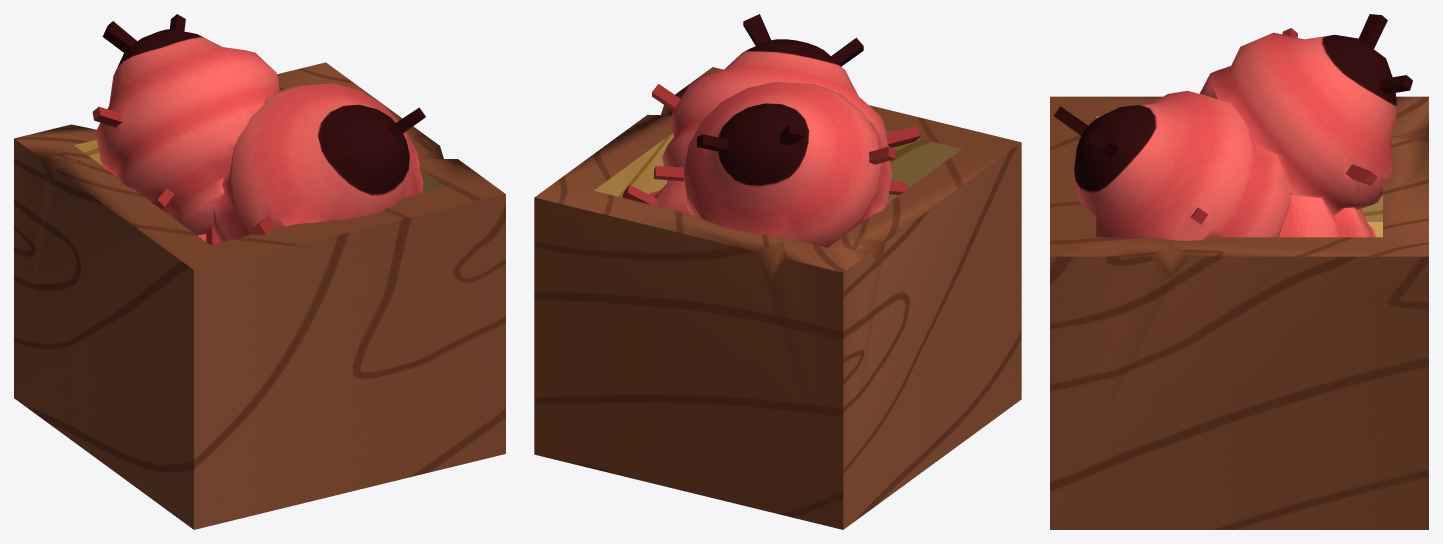
File: Box_RedBug.fbx
The picture shows the model from 3 angles, left to right: view 1: azimuth 30°, elevation 25°; view 2: azimuth 150°, elevation 25°; view 3: azimuth 270°, elevation 25°; orthographic projection. The views are drawn at different scales.
Parts seen in each view (by area): view 1: Box_RedBug; view 2: Box_RedBug; view 3: Box_RedBug.
Part boxes in pixels (<box>): Box_RedBug: <box>14,14,505,529</box>; Box_RedBug: <box>534,14,1021,529</box>; Box_RedBug: <box>1050,14,1428,529</box>.
Size of the model in its own units: 82.82 by 95.1 by 82.82.
2 materials, 2 textured.
